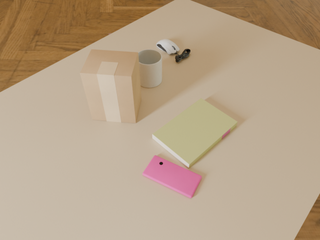book: (152, 98, 237, 168)
box: (80, 50, 141, 123)
cup: (138, 49, 162, 88)
mouse: (156, 39, 180, 54)
phone: (143, 155, 202, 198)
